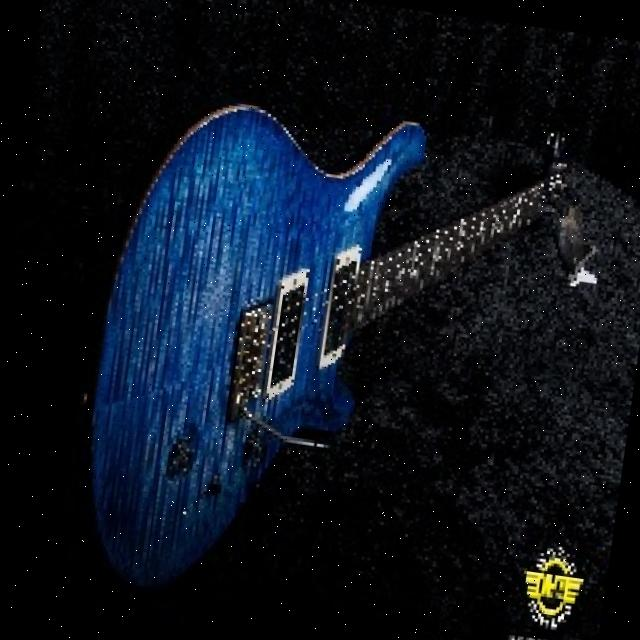guitar: (21, 62, 602, 640)
